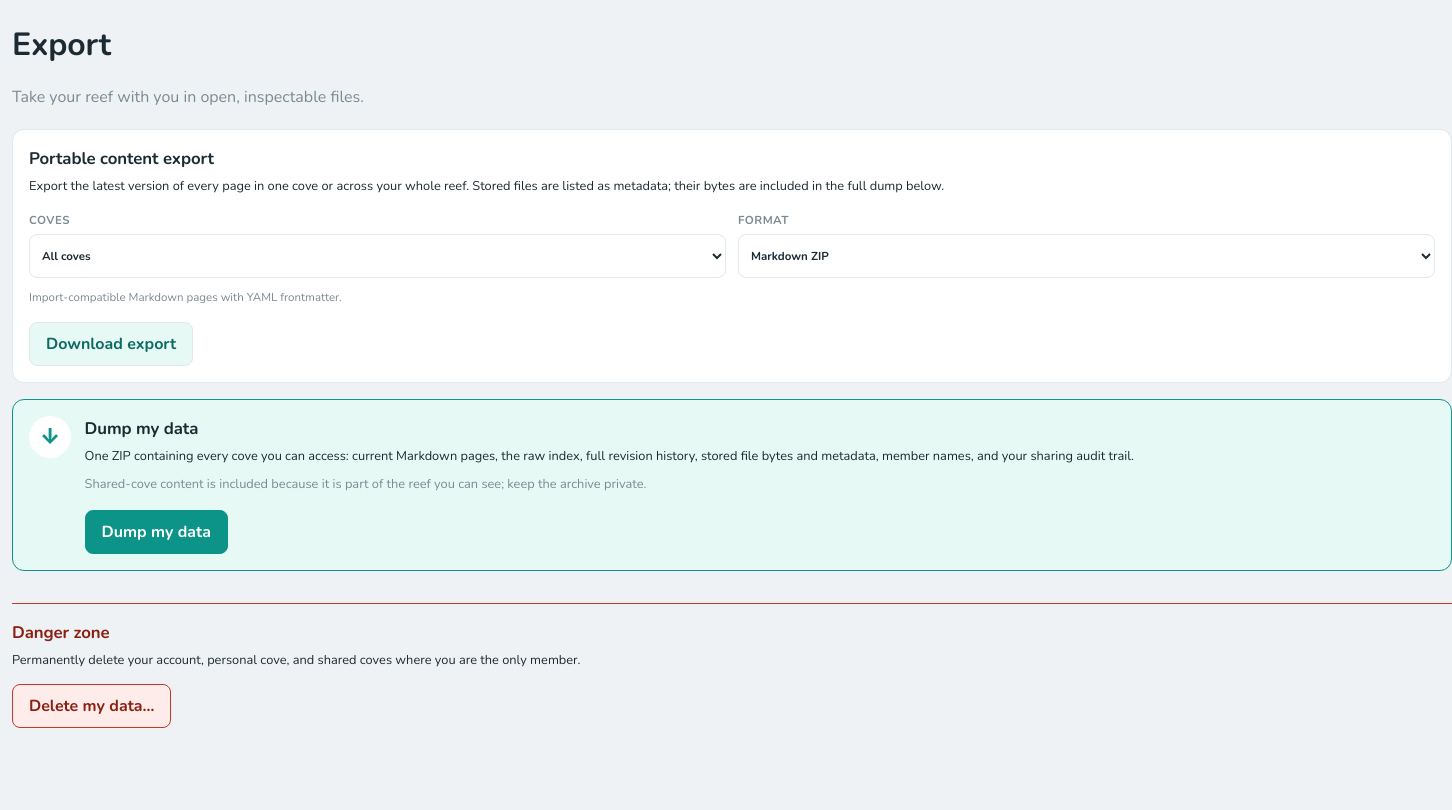
a failed export says so rather than appearing to have worked
The image size is (1452, 810).
Click the button "Download export".
click(111, 344)  # box top-left (29, 322), bottom-right (193, 366)
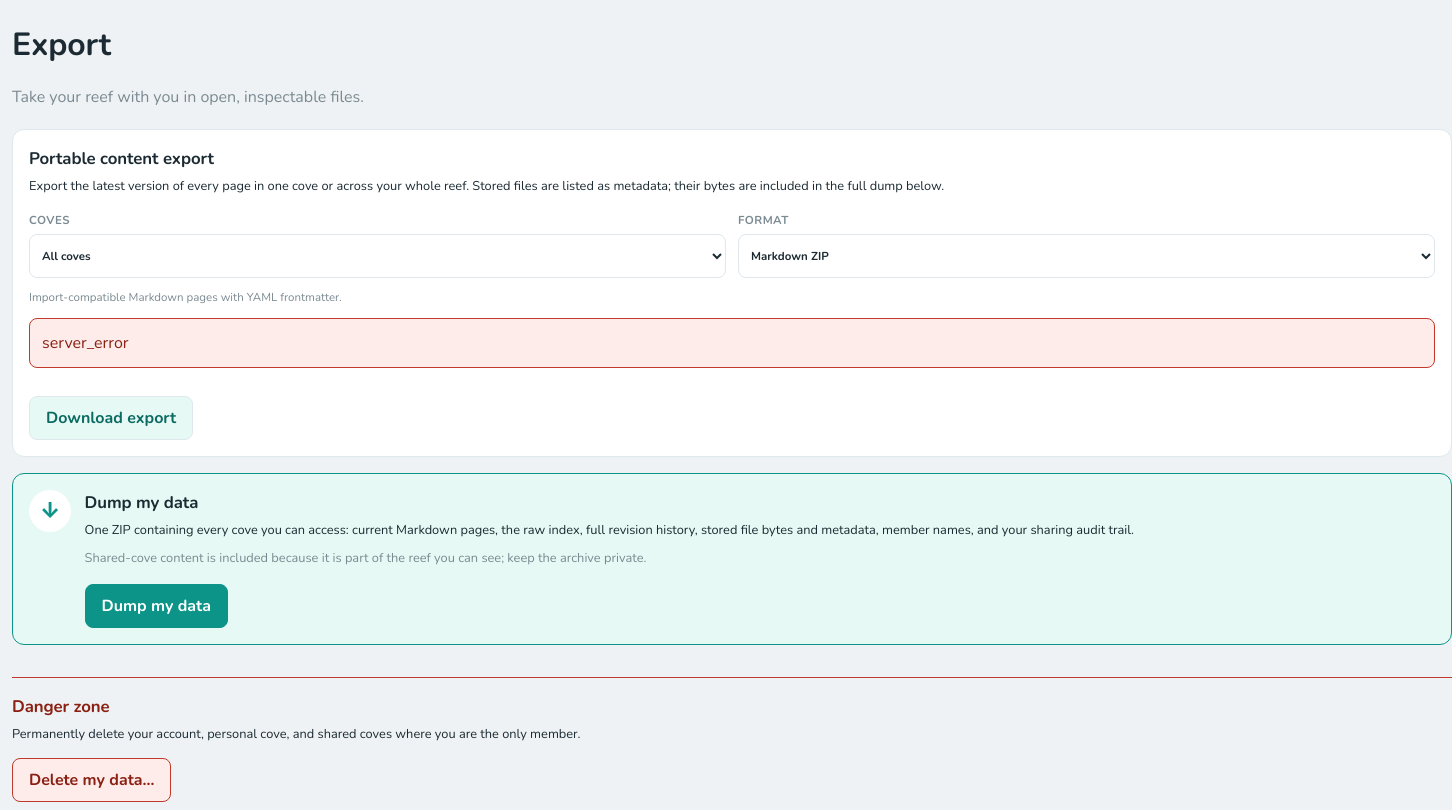
Expected: the button "Download export" is shown, top-left (29, 396), bottom-right (193, 440)
Result: the text "server_error" is shown at top-left (29, 318), bottom-right (1435, 368)
